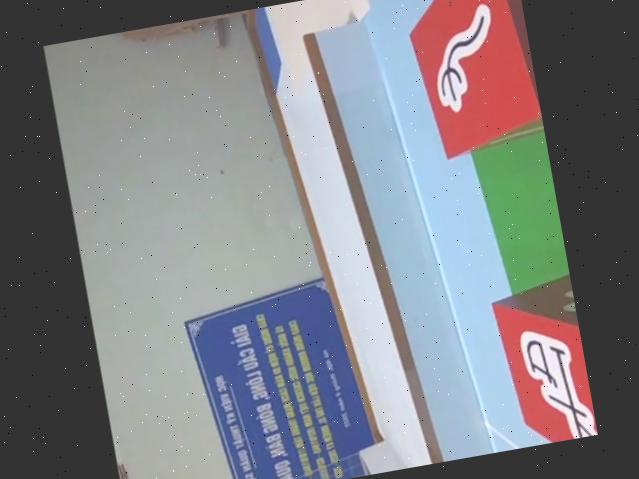R2 Real: (394, 0, 547, 174), (482, 265, 597, 449)
